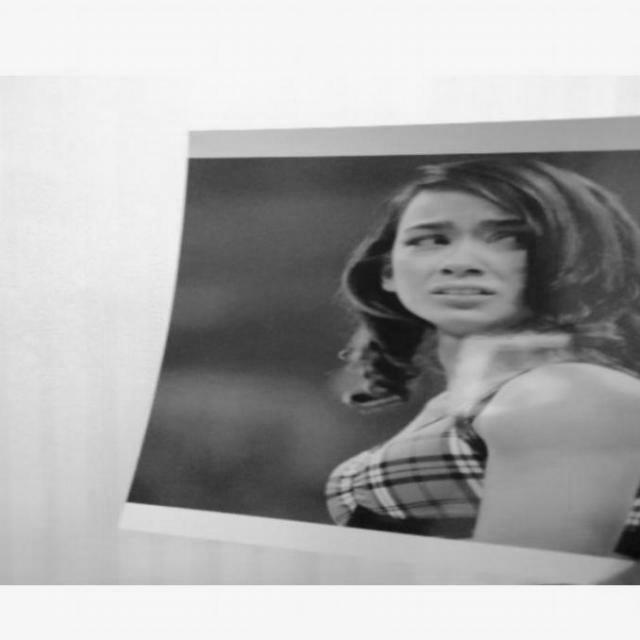fake: (111, 108, 640, 564)
